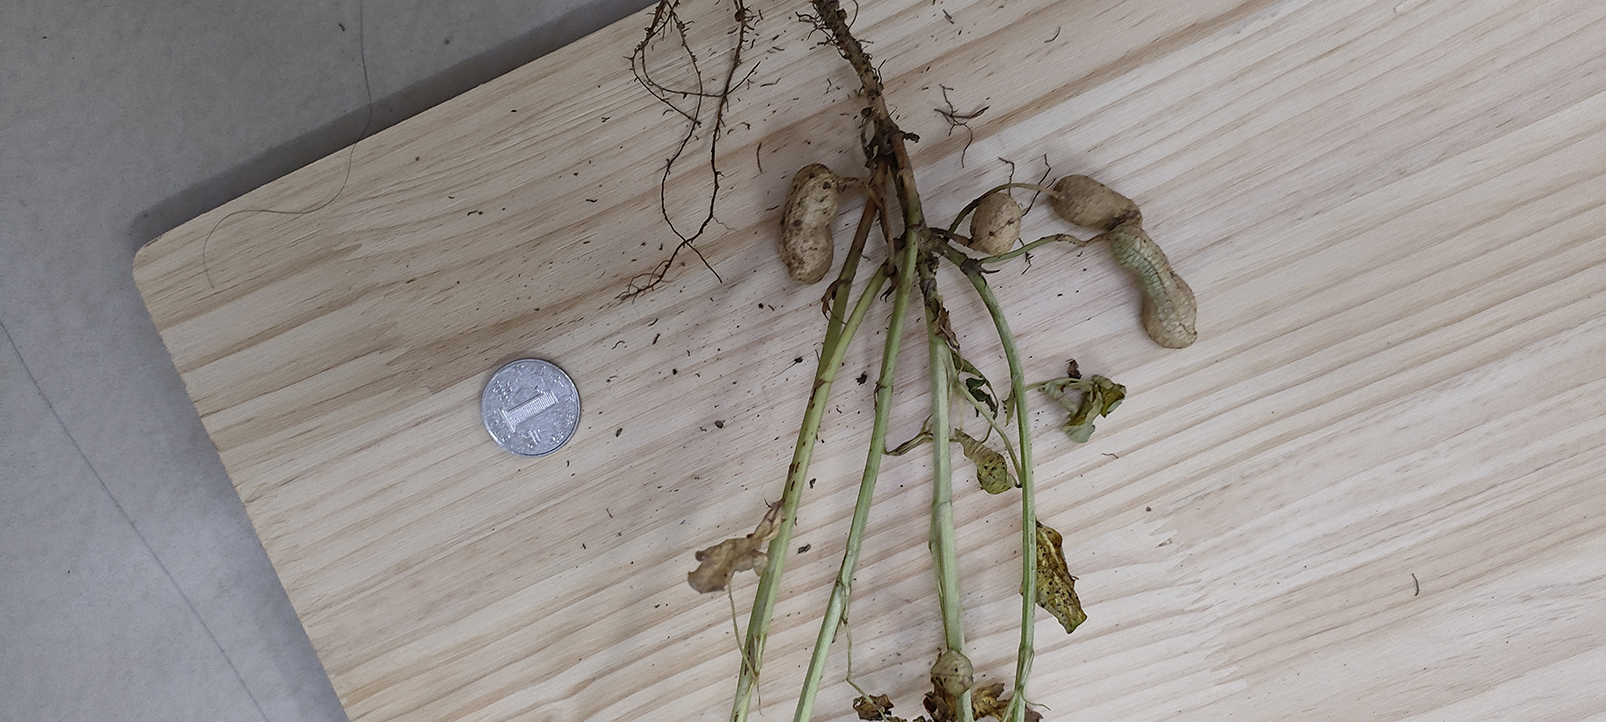h: (1112, 229, 1201, 350), (780, 163, 842, 283), (1052, 174, 1146, 230), (970, 192, 1022, 258)
